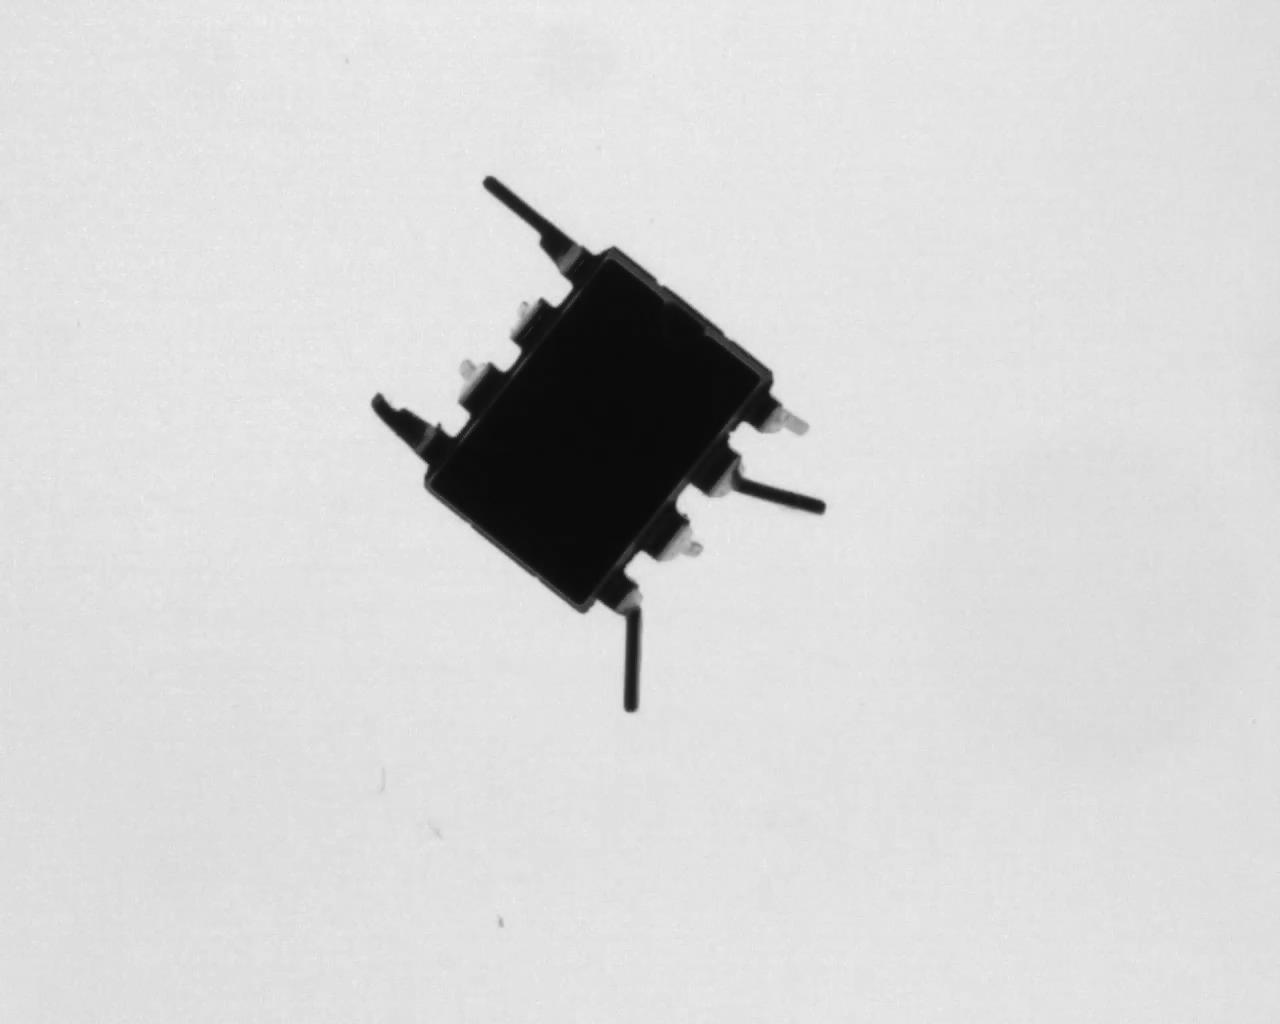Leg: (481, 172, 598, 280), (698, 445, 827, 517), (597, 572, 642, 714), (371, 392, 453, 466), (643, 505, 704, 563), (743, 389, 810, 438), (508, 296, 563, 352), (458, 358, 508, 415)
